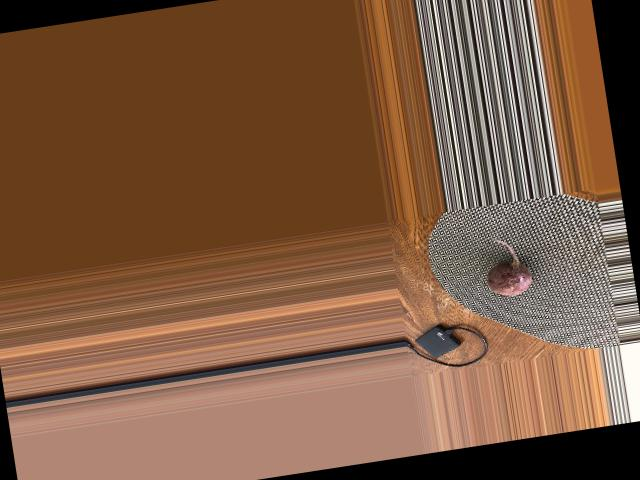beet: (481, 234, 533, 298)
